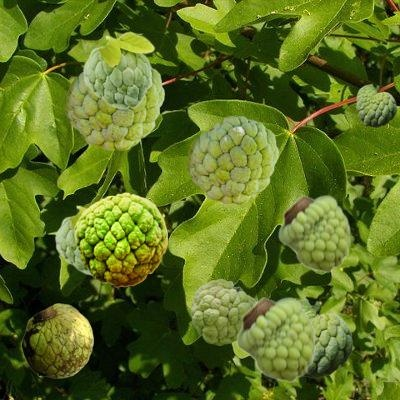atis: (74, 192, 166, 286), (65, 68, 163, 149), (187, 116, 277, 203), (236, 296, 315, 382), (278, 194, 350, 272), (82, 31, 154, 109), (21, 303, 92, 377), (191, 279, 256, 344), (299, 299, 351, 377), (54, 201, 95, 275), (356, 84, 395, 126)
